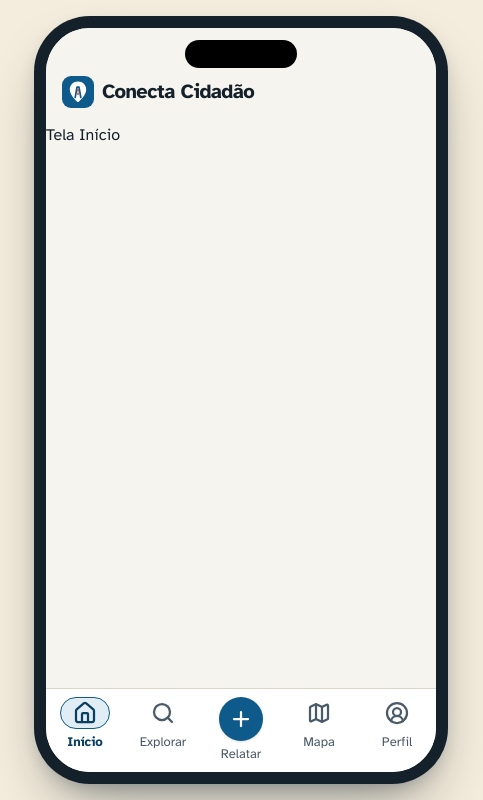
Test: AppShell + navegação › Perfil fica no menu inferior; o cabeçalho tem só a marca
Step 1. Click the link "Perfil" → [397, 725], box [382, 700, 412, 750]
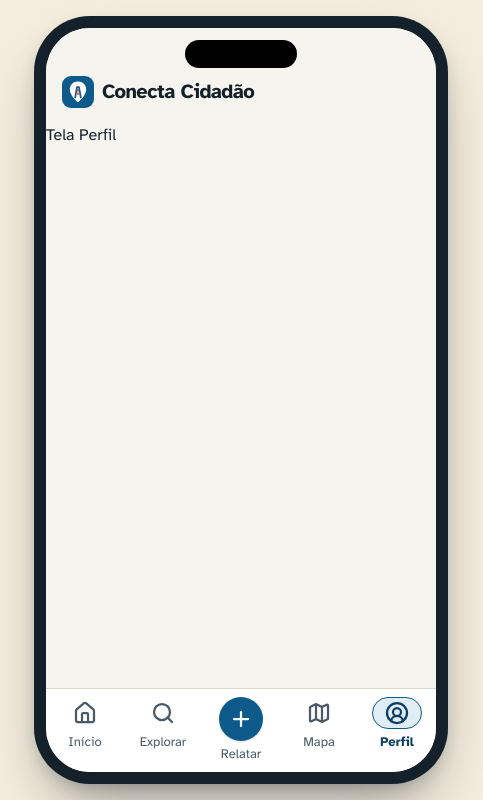
Result: the text "Tela Perfil" is shown at [46, 125, 116, 145]
